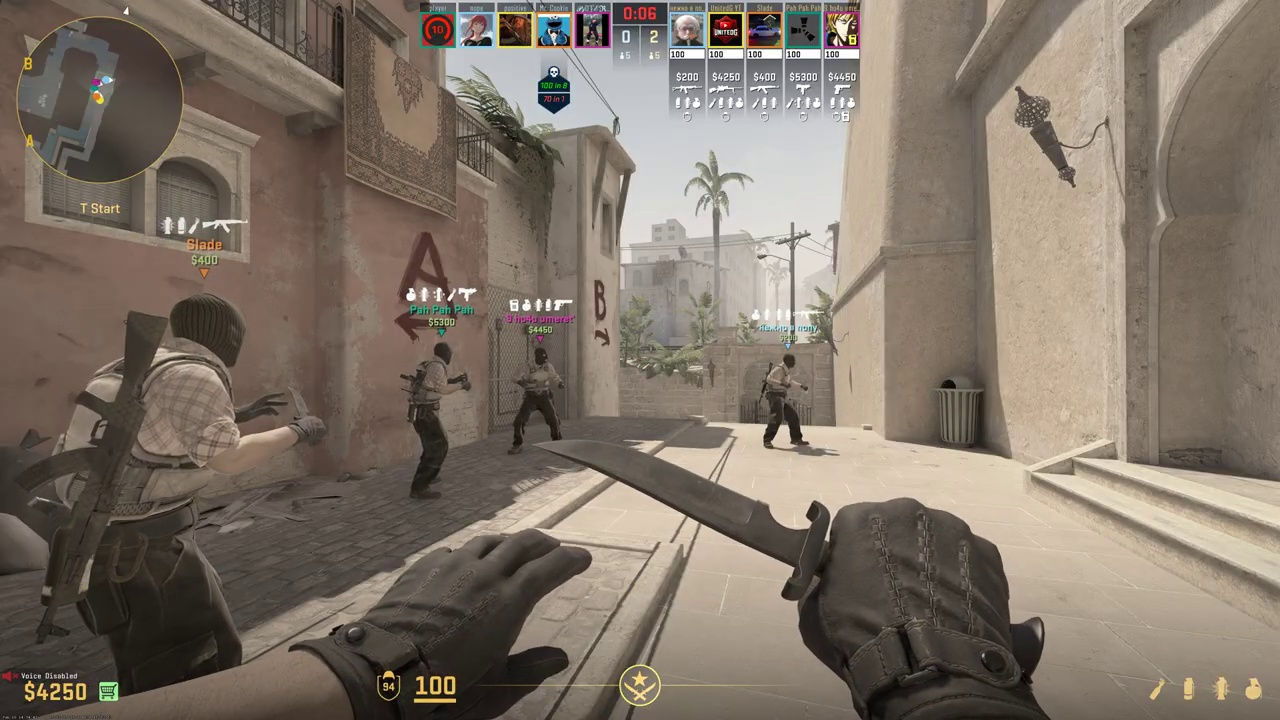Terrorist: (94, 295, 261, 684), (407, 343, 453, 501), (515, 347, 562, 450), (761, 355, 809, 449)
